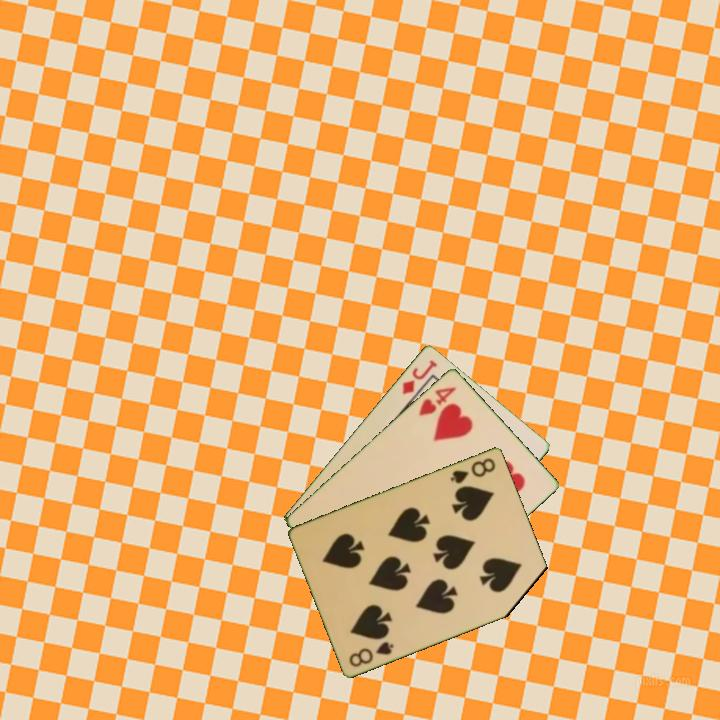4h: (415, 383, 459, 418)
8s: (346, 637, 397, 670), (447, 454, 499, 486)
Jd: (398, 356, 440, 397)
